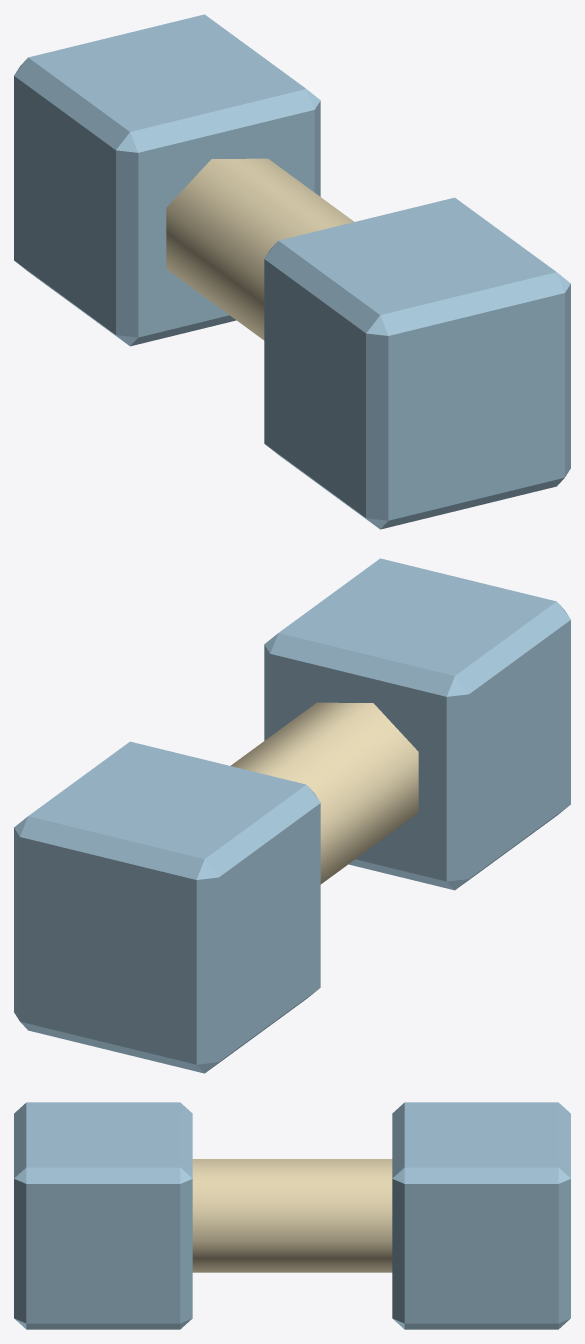
The model's file is R4C_STRUT_STANDARD_LOD1.glb.
3 views of the same model, one above another, from view 1: azimuth 30°, elevation 25°; view 2: azimuth 150°, elevation 25°; view 3: azimuth 270°, elevation 25° (orthographic). The views are drawn at different scales.
Visible parts, largest first — view 1: R4C_STRUT_STANDARD_LOD1; view 2: R4C_STRUT_STANDARD_LOD1; view 3: R4C_STRUT_STANDARD_LOD1.
Boxes of the visible parts, x1=… form: R4C_STRUT_STANDARD_LOD1: x1=14, y1=14, x2=570, y2=529; R4C_STRUT_STANDARD_LOD1: x1=14, y1=558, x2=570, y2=1073; R4C_STRUT_STANDARD_LOD1: x1=14, y1=1102, x2=570, y2=1329.
Bounding box in the file's own units: 0.52 × 0.52 × 1.62.
